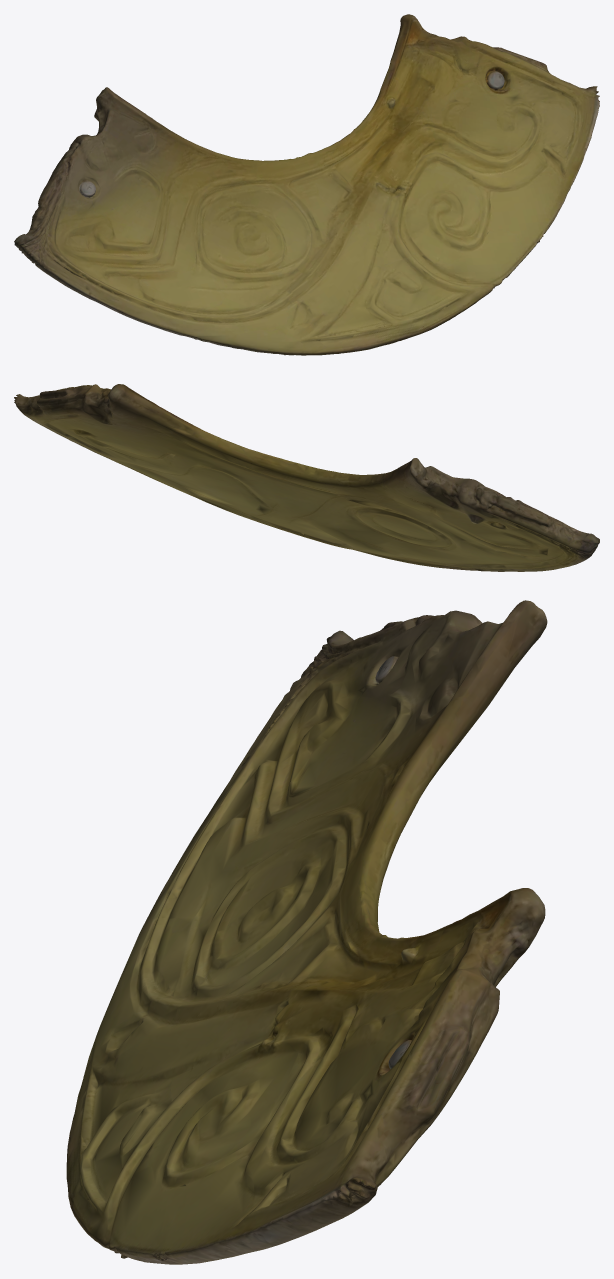
File: phoenix-huang-roaming.glb
3 views of the same model, one above another, from view 1: azimuth 30°, elevation 25°; view 2: azimuth 150°, elevation 25°; view 3: azimuth 270°, elevation 25° (orthographic). The views are drawn at different scales.
Parts seen in each view (by area): view 1: node_0; view 2: node_0; view 3: node_0.
Part boxes in pixels (left/top/right/bottom): node_0: left=14, top=14, right=599, bottom=355; node_0: left=14, top=384, right=599, bottom=571; node_0: left=66, top=600, right=547, bottom=1264.
Size of the model in its own units: 1.19 by 0.4169 by 0.4278.
1 material, 1 textured.
